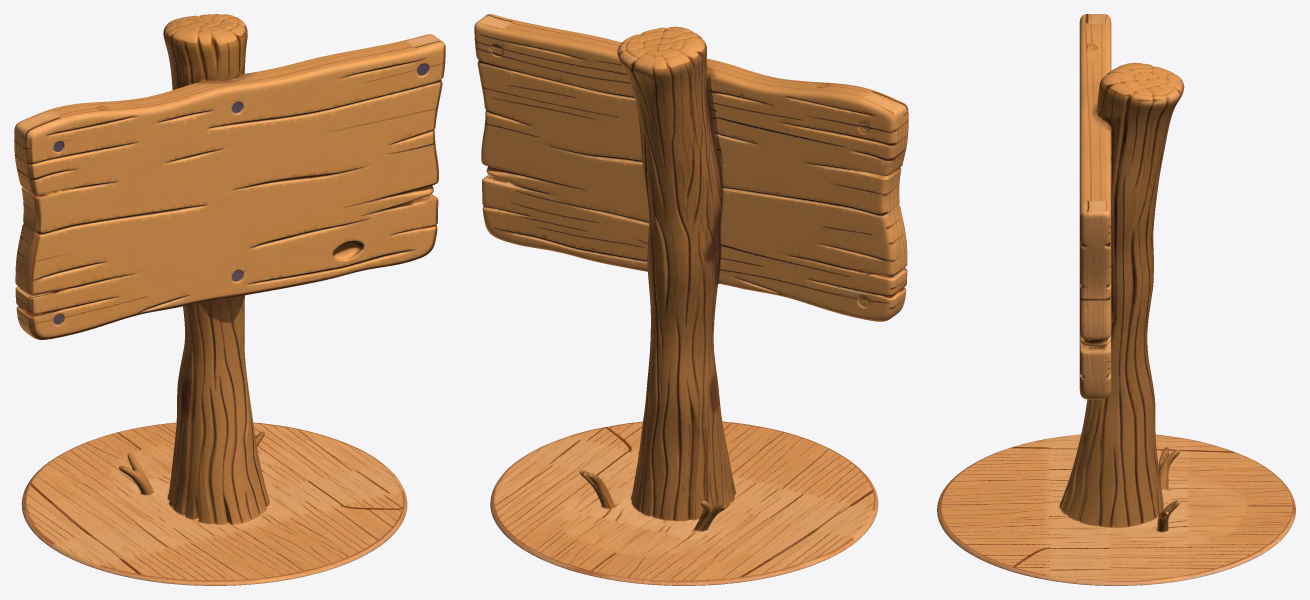
Rendered from infosign.glb.
3 renders of one model, left to right at view 1: azimuth 30°, elevation 25°; view 2: azimuth 150°, elevation 25°; view 3: azimuth 270°, elevation 25°, orthographic. The views are drawn at different scales.
Bounding box in the file's own units: 1.77 × 1.9 × 1.41.
1 material, 1 textured.
